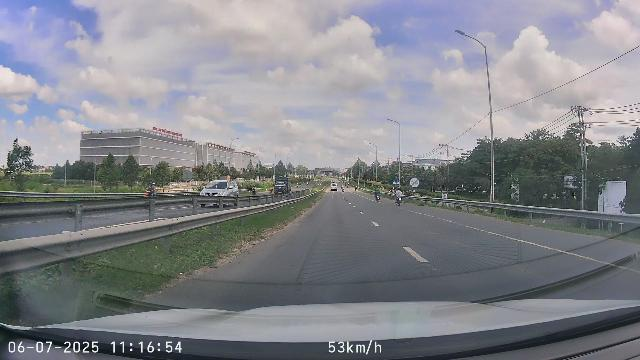133-het-cam-vuot: (409, 177, 420, 188)
420-bat-dau-khu-dong-dan-cu: (392, 179, 399, 185)
